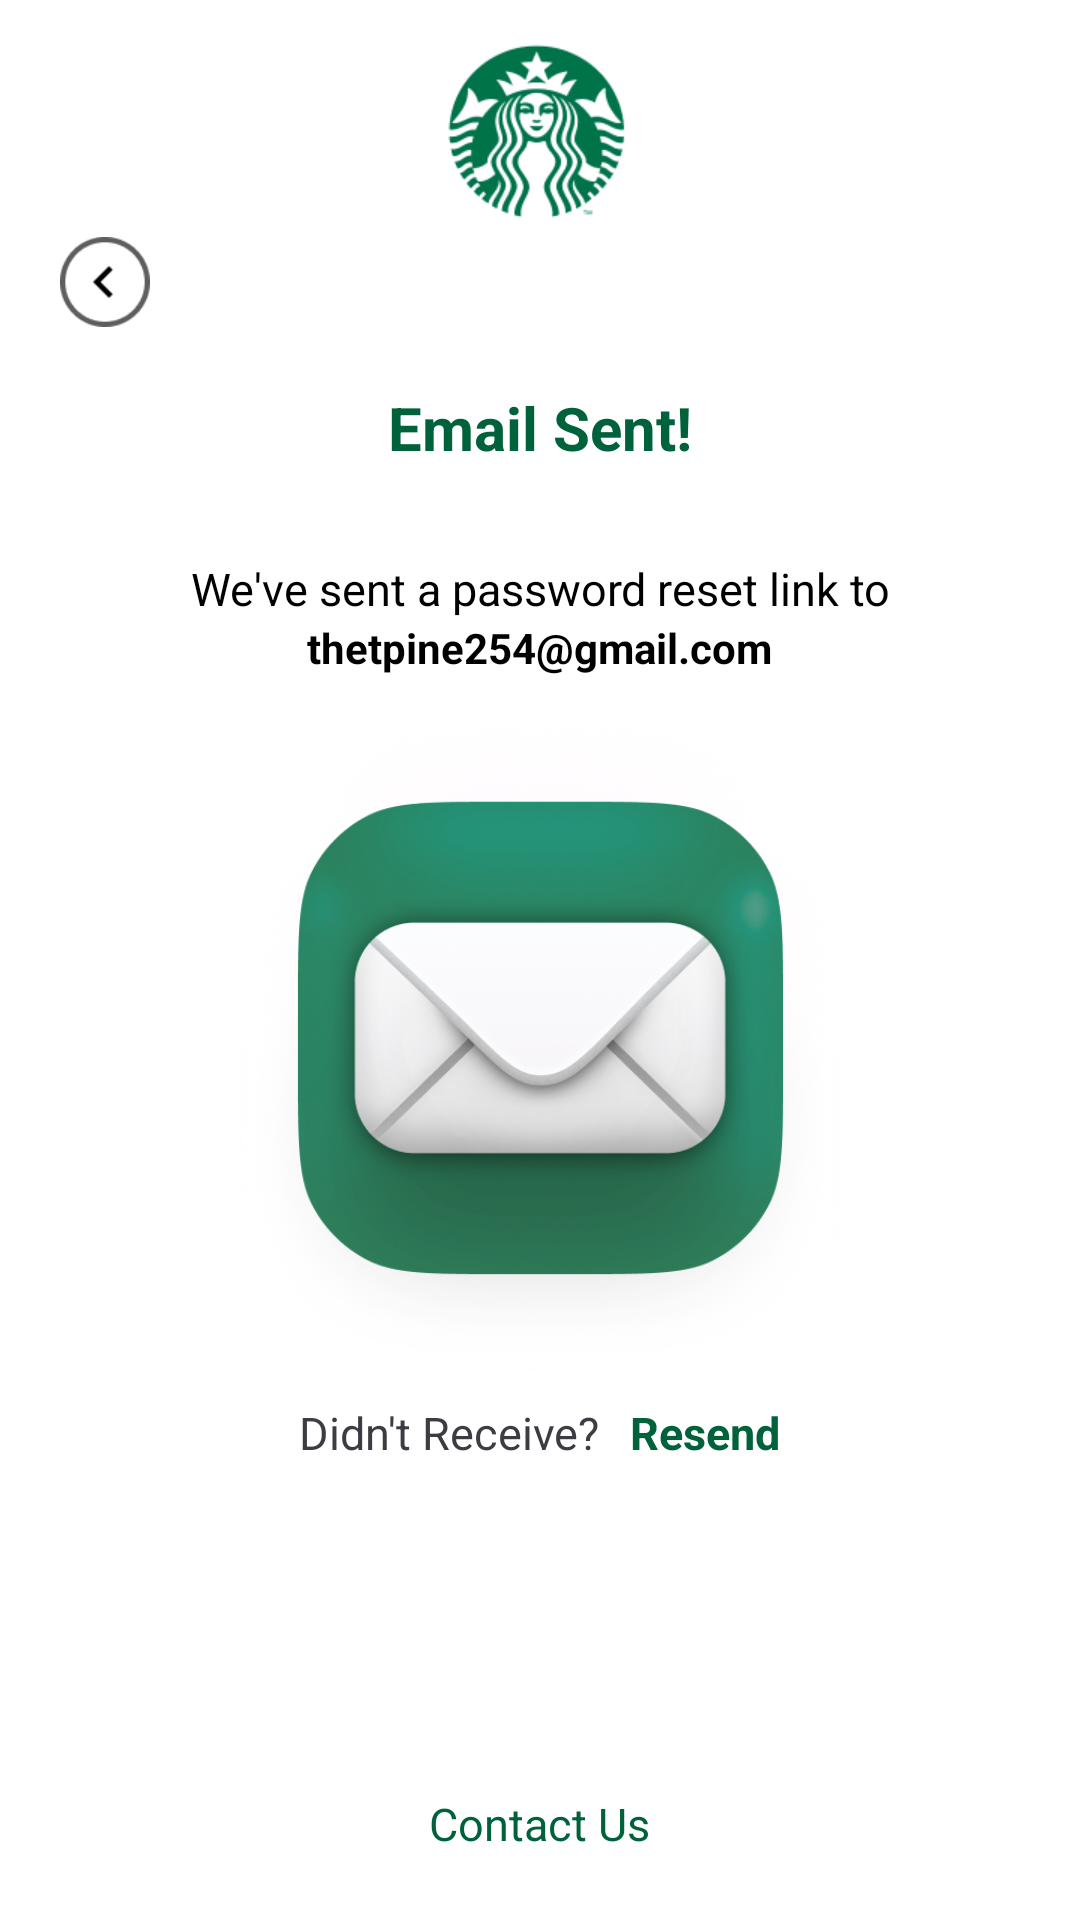

Point at icon controls on the screen. Image size 1080px x 1920px, points as (x=x, y=y).
back: (x=105, y=282)
